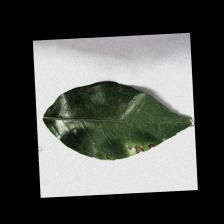canker: (68, 115, 159, 172)
